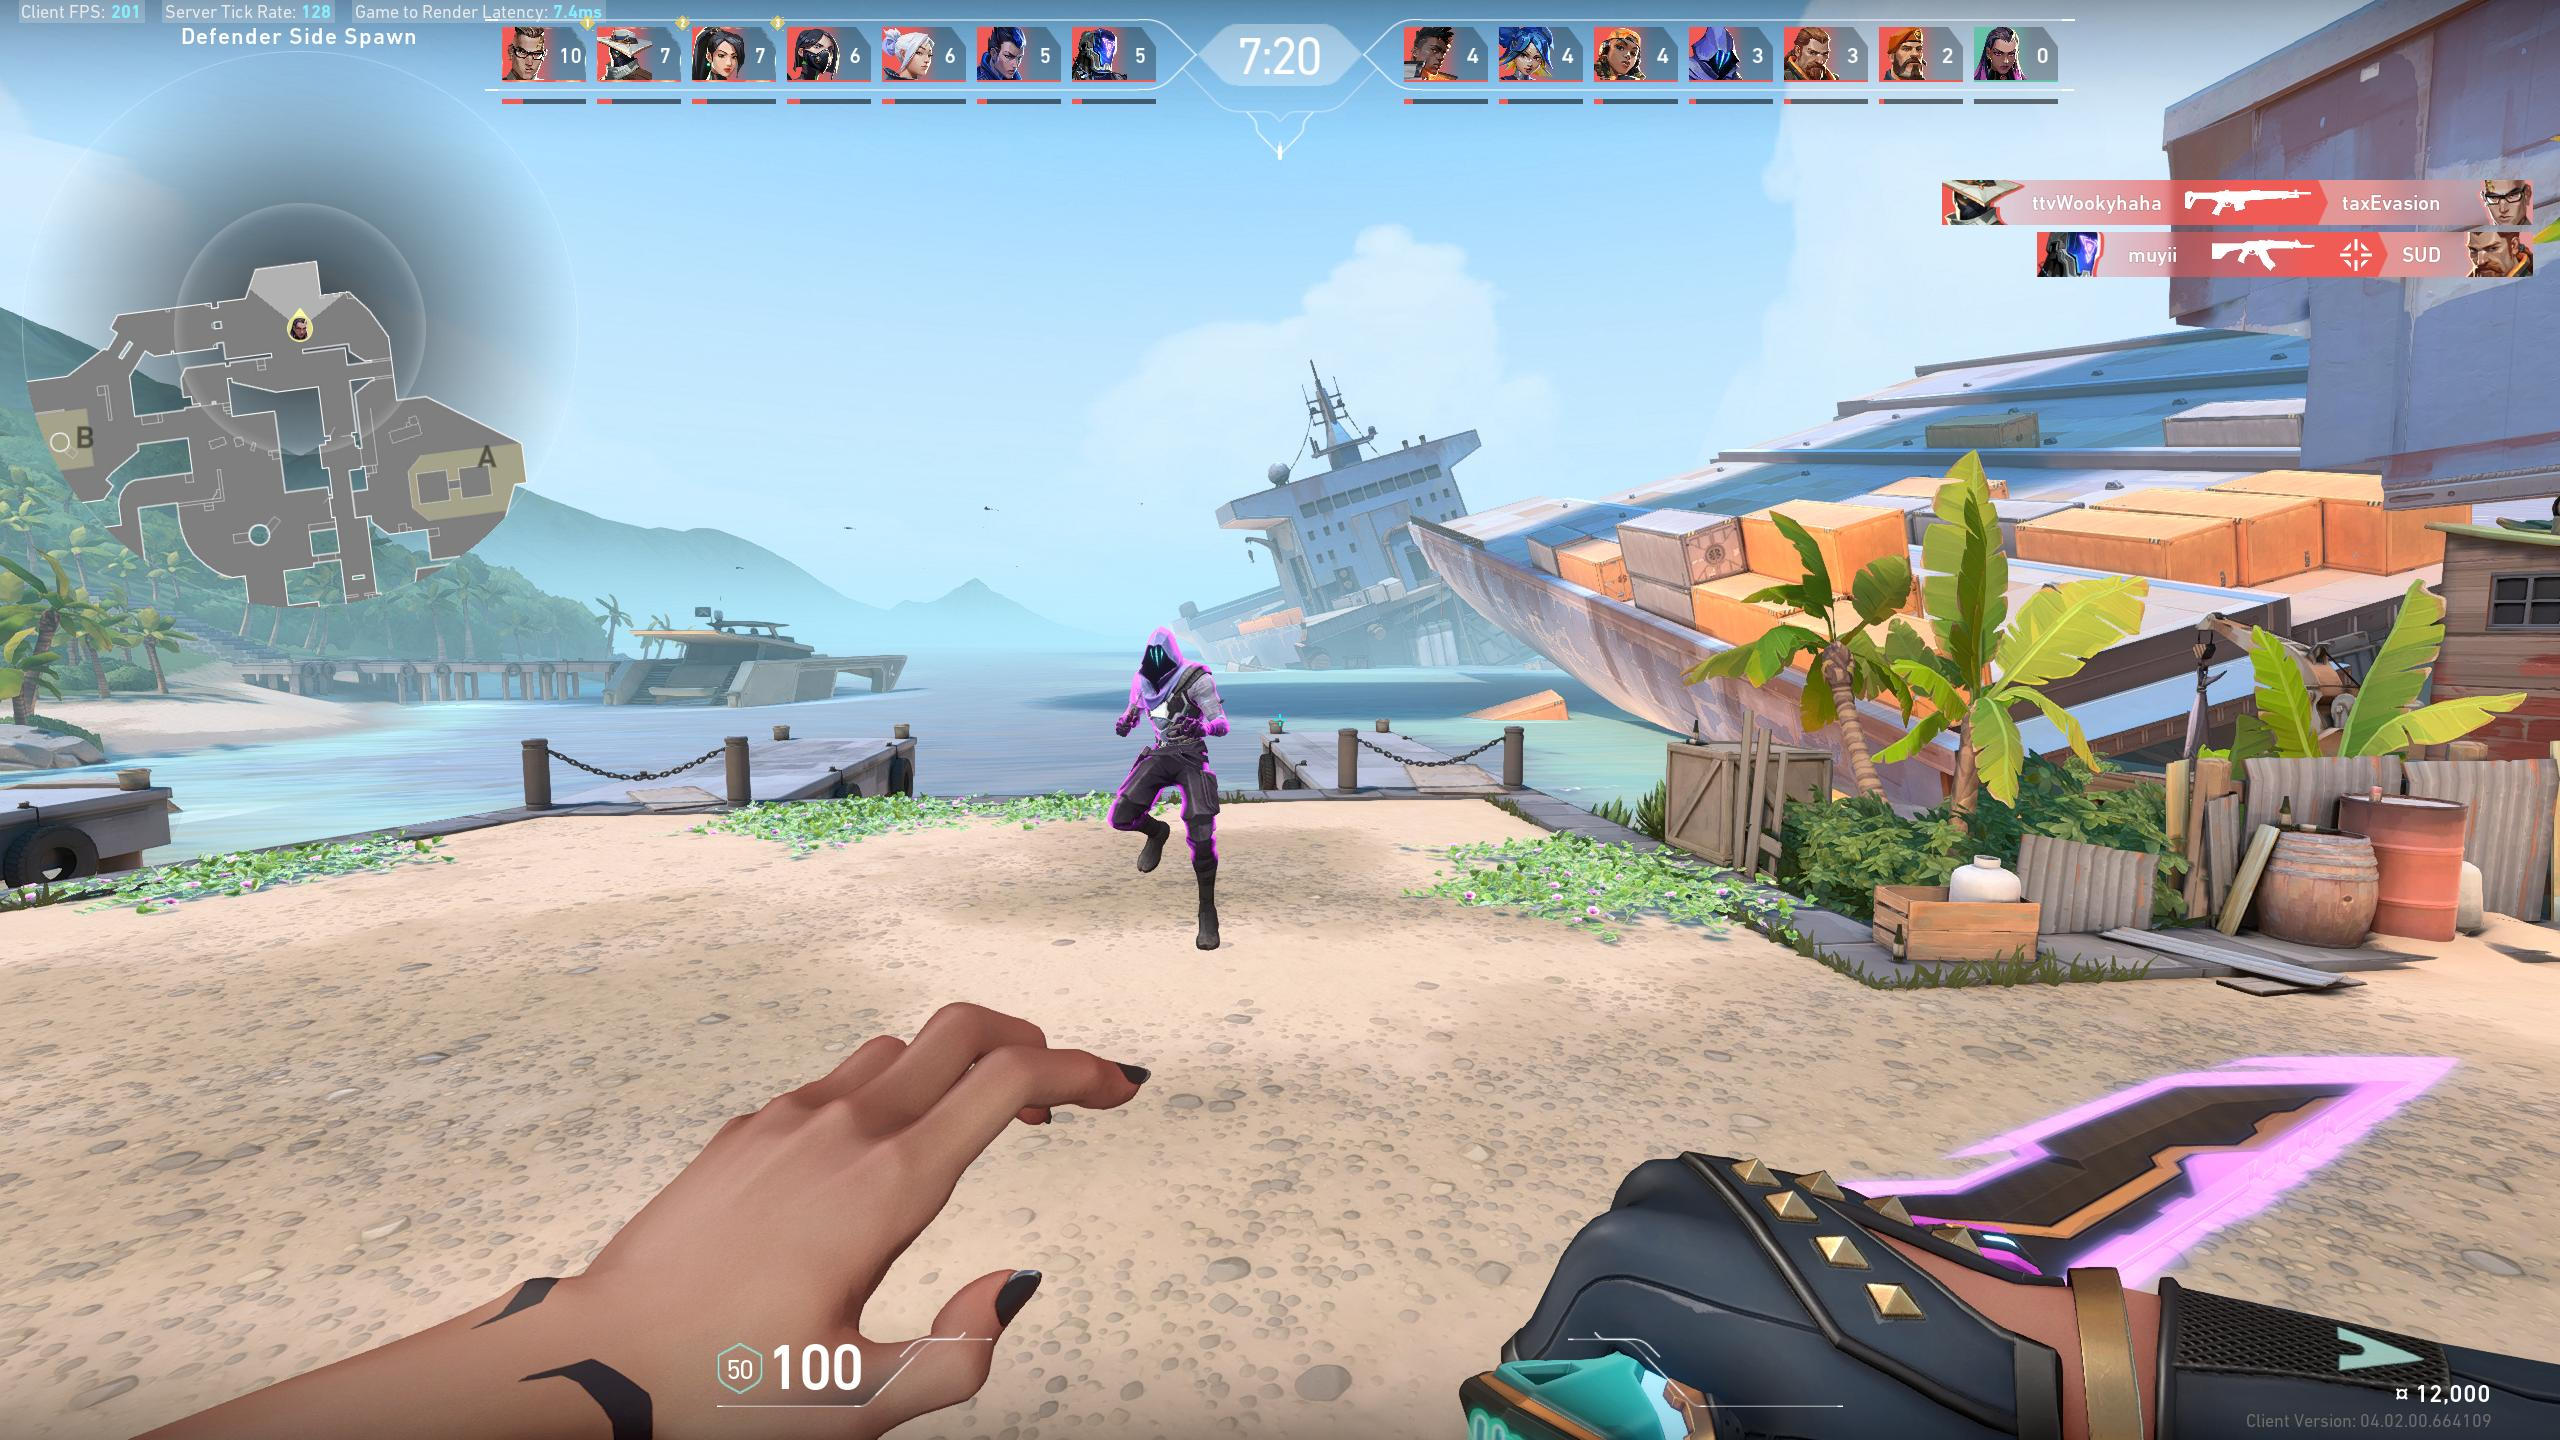enemyBody: (1152, 686, 1196, 749)
enemyHead: (1146, 645, 1173, 673)
